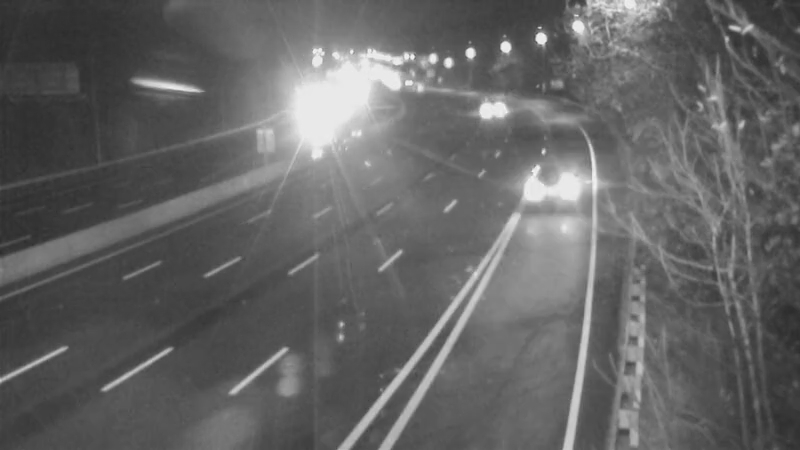vehicle: (504, 149, 584, 229), (388, 60, 438, 110), (459, 83, 509, 133)
